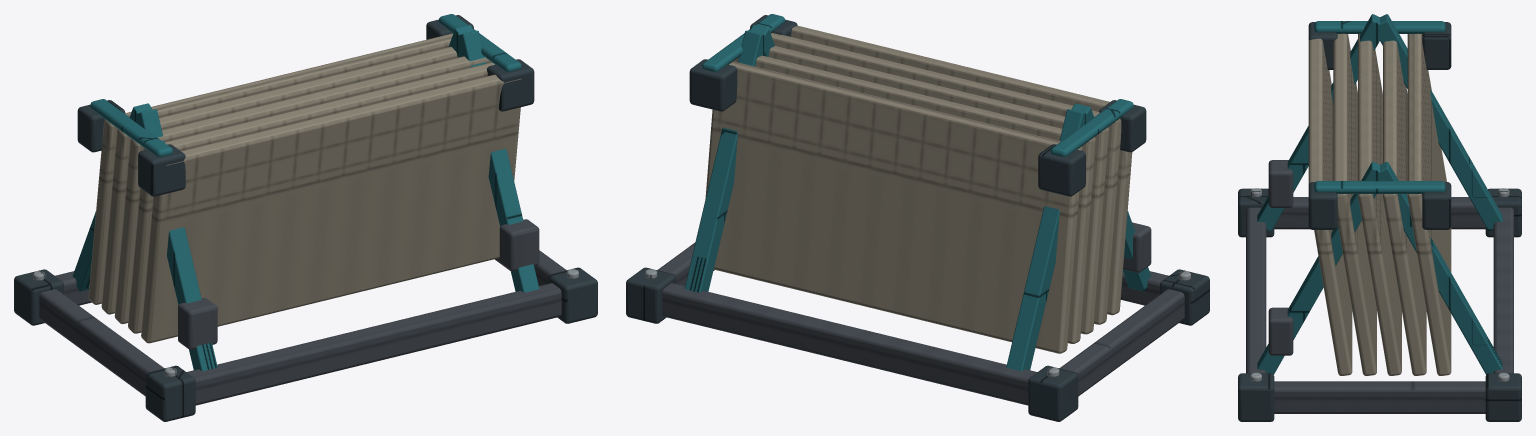
File: cargo-habitat-panel-pack_lod0.glb
3 views of the same model, side by side, from view 1: azimuth 30°, elevation 25°; view 2: azimuth 150°, elevation 25°; view 3: azimuth 270°, elevation 25° (orthographic). The views are drawn at different scales.
Parts seen in each view (by area): view 1: LOD0_Ceramic, LOD0_Mechanical, LOD0_Armor, LOD0_Livery; view 2: LOD0_Ceramic, LOD0_Mechanical, LOD0_Livery, LOD0_Armor; view 3: LOD0_Ceramic, LOD0_Mechanical, LOD0_Livery, LOD0_Armor, LOD0_BrushedMetal.
Boxes of the visible parts, <box> form: LOD0_Ceramic: <box>88,33,521,343</box>; LOD0_Mechanical: <box>39,219,566,405</box>; LOD0_Armor: <box>14,15,597,421</box>; LOD0_Livery: <box>72,14,539,371</box>; LOD0_Ceramic: <box>705,25,1132,353</box>; LOD0_Mechanical: <box>657,222,1184,405</box>; LOD0_Livery: <box>684,14,1151,371</box>; LOD0_Armor: <box>626,15,1209,421</box>; LOD0_Ceramic: <box>1308,33,1451,375</box>; LOD0_Mechanical: <box>1246,160,1513,413</box>; LOD0_Livery: <box>1257,14,1502,374</box>; LOD0_Armor: <box>1238,22,1521,421</box>; LOD0_BrushedMetal: <box>1250,188,1509,382</box>.
Bounding box in the file's own units: 3.25 × 1.76 × 1.95.
Materials: 5 (5 with a texture image).
